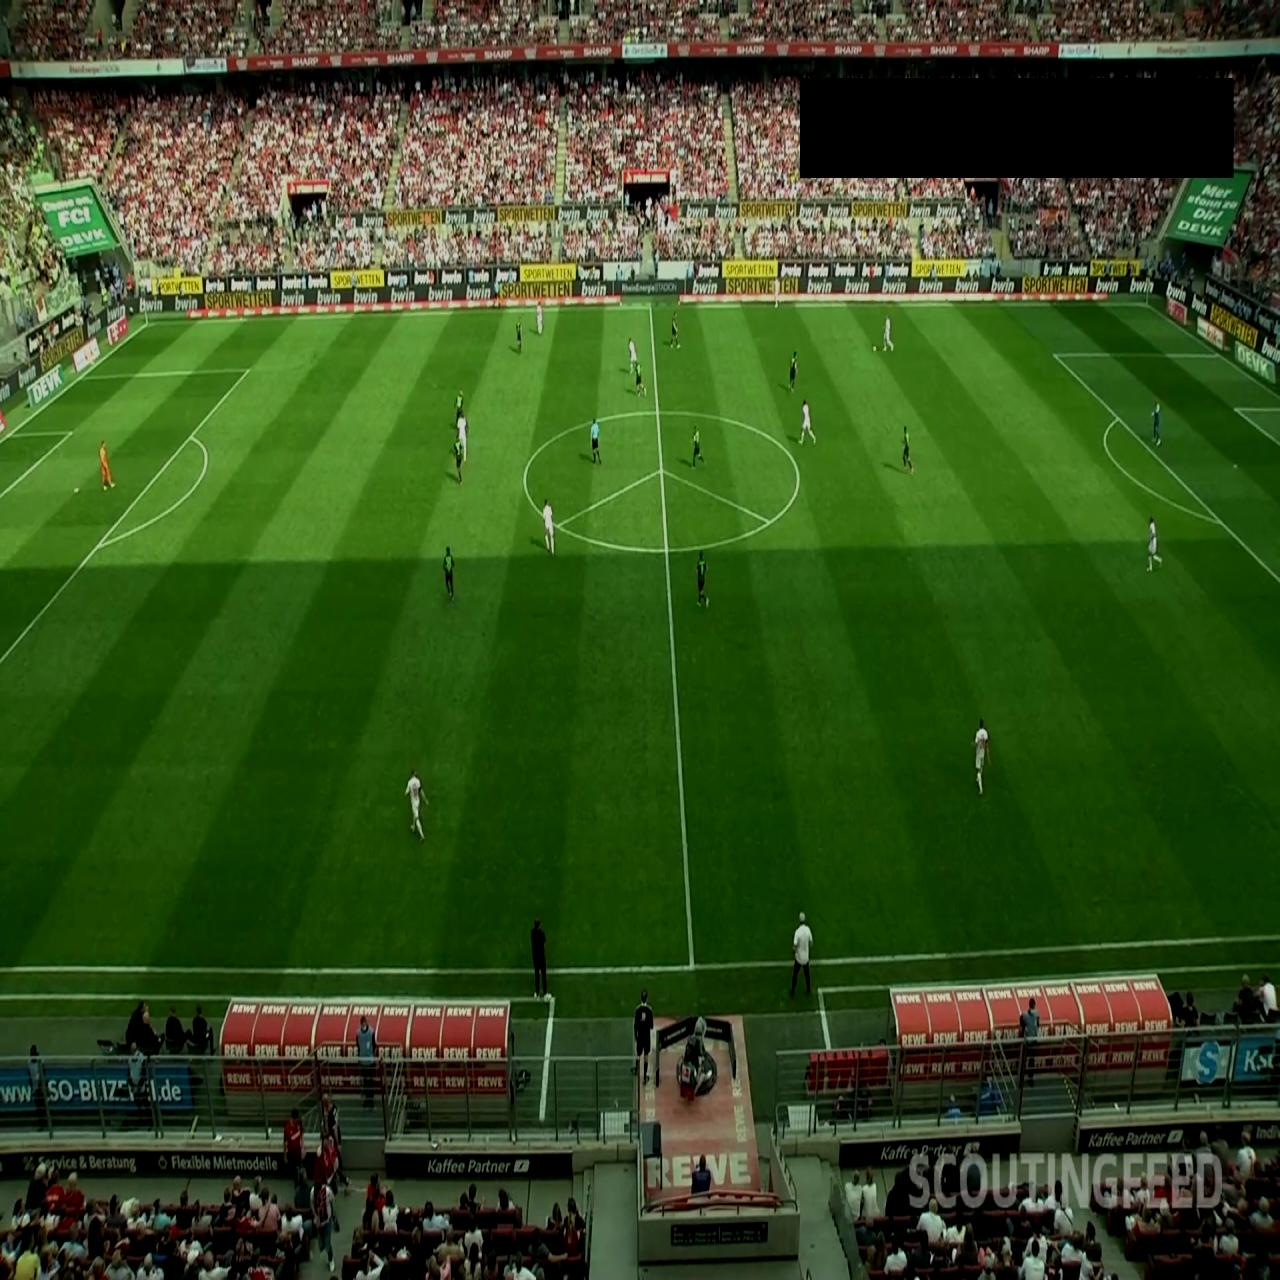ball: (871, 344, 877, 354)
goalkeeper: (99, 440, 115, 490), (1151, 400, 1161, 446)
player: (405, 767, 429, 841), (972, 716, 991, 795), (799, 398, 816, 447), (1147, 516, 1162, 571), (542, 498, 554, 556), (444, 545, 456, 602), (902, 423, 915, 475), (696, 551, 708, 607), (456, 408, 468, 461), (691, 422, 704, 468), (453, 436, 464, 485), (634, 358, 647, 398), (882, 315, 893, 353), (669, 311, 680, 347), (454, 388, 464, 427), (789, 350, 798, 392), (628, 337, 638, 373), (535, 300, 544, 334), (773, 278, 781, 309), (516, 319, 523, 352)
referee: (591, 416, 602, 466), (493, 274, 501, 309)
